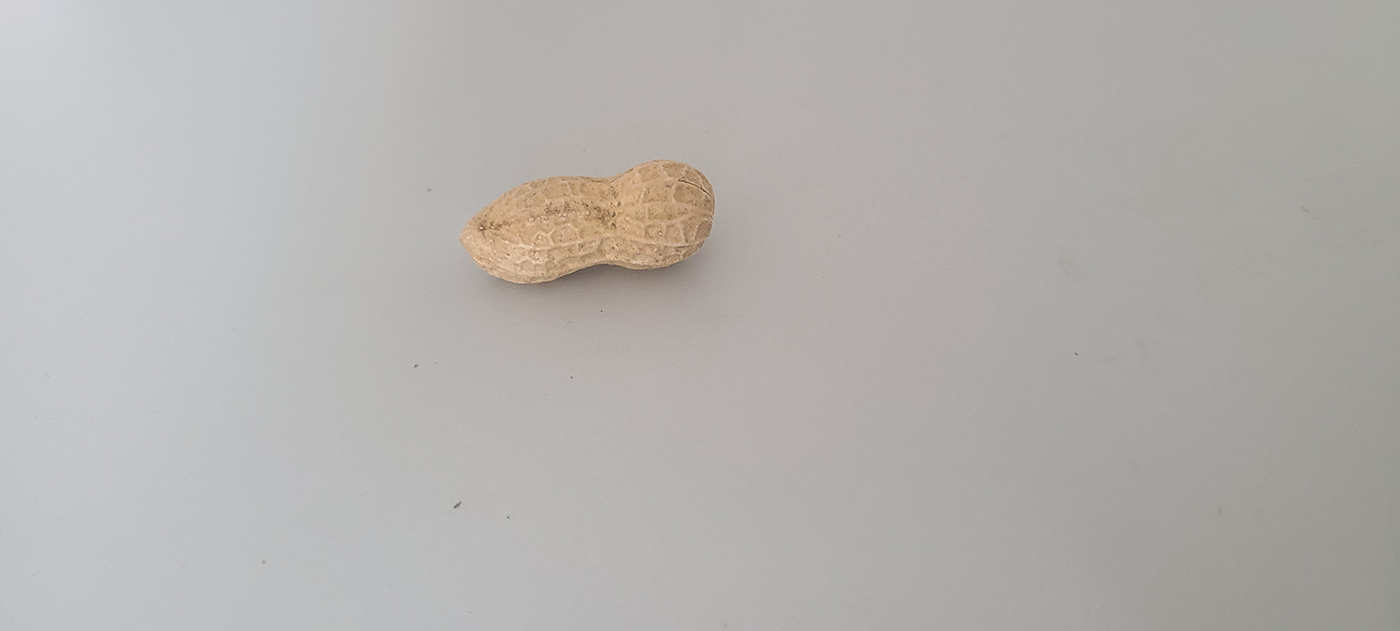h: (455, 157, 716, 288)
